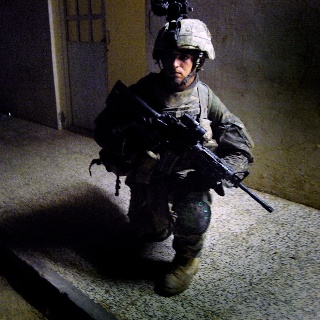rifle: (106, 80, 280, 213)
